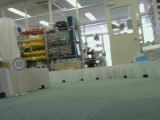speed_10: (11, 57, 27, 72)
